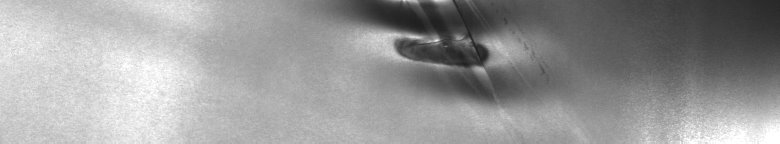ke: (352, 4, 548, 120)
